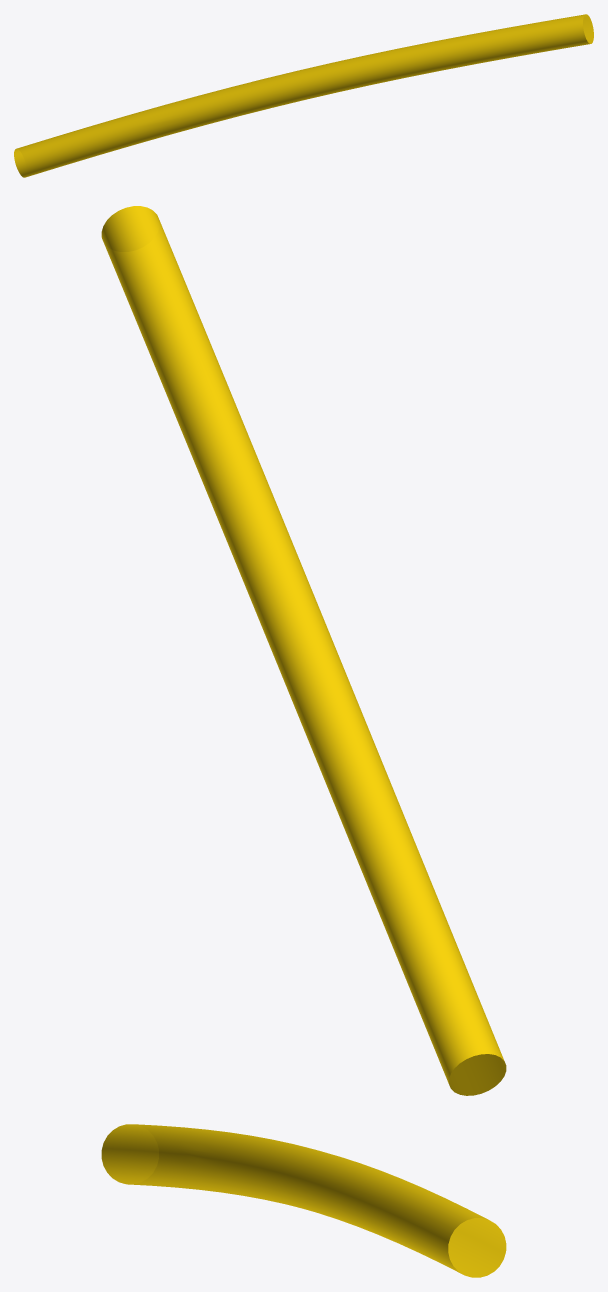
Rendered from Event_421115418_track_5.fbx.
The picture shows the model from 3 angles, top to bottom: view 1: azimuth 30°, elevation 25°; view 2: azimuth 150°, elevation 25°; view 3: azimuth 330°, elevation 25°; orthographic projection. The views are drawn at different scales.
Parts seen in each view (by area): view 1: Model; view 2: Model; view 3: Model.
Part boxes in pixels (x1=…): Model: x1=14, y1=14, x2=593, y2=177; Model: x1=101, y1=206, x2=506, y2=1095; Model: x1=101, y1=1124, x2=506, y2=1277.
Size of the model in its own units: 0.5933 by 0.3112 by 0.551.
